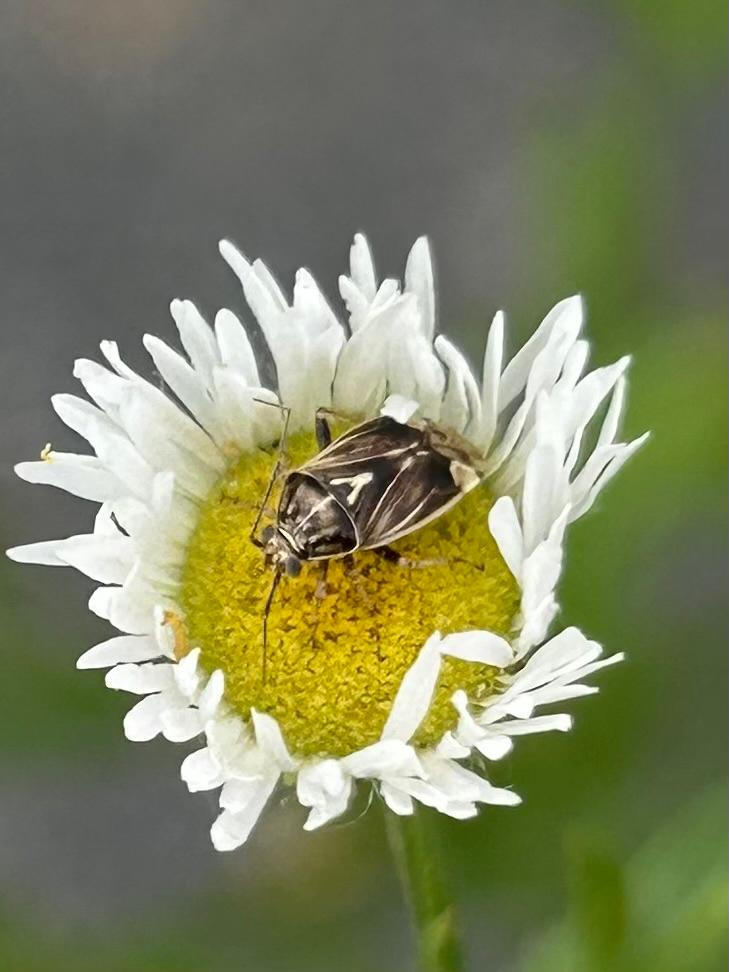plant_bugs: (187, 339, 535, 679)
